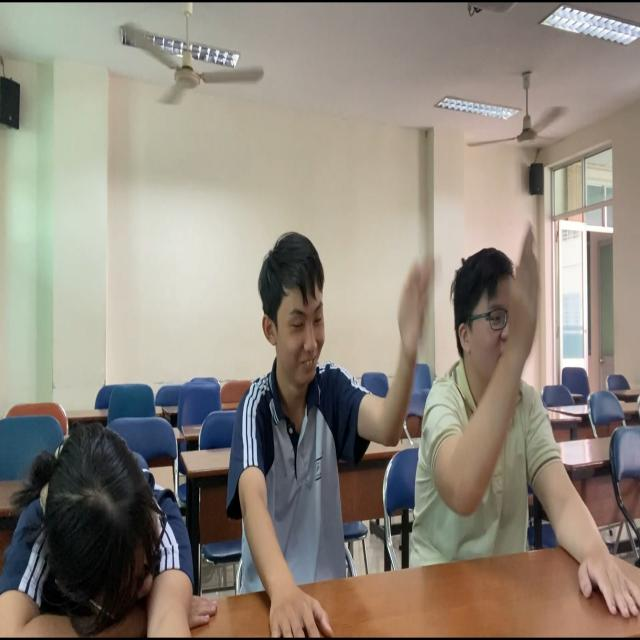raise_hand: (231, 229, 440, 640)
sleep: (1, 417, 207, 640)
